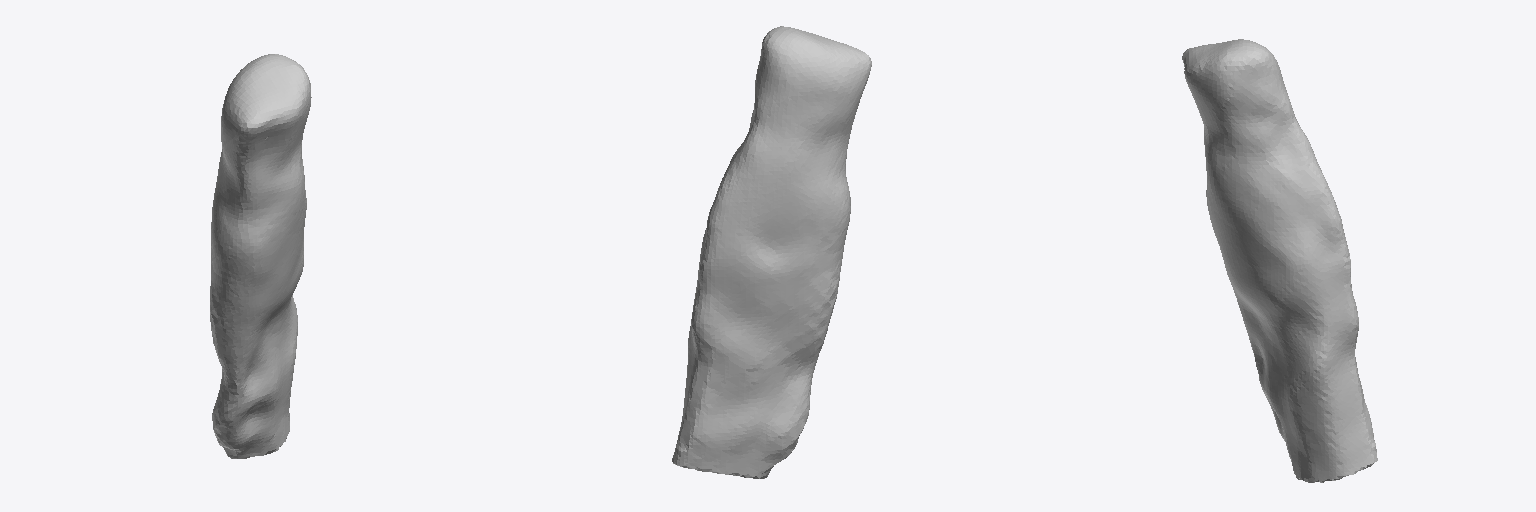
Rendered from shampoo.obj.
3 renders of one model, left to right at view 1: azimuth 30°, elevation 25°; view 2: azimuth 150°, elevation 25°; view 3: azimuth 270°, elevation 25°, orthographic.
Visible parts, largest first — view 1: mmGroup0; view 2: mmGroup0; view 3: mmGroup0.
Boxes of the visible parts, <box> form: mmGroup0: <box>210,54,311,458</box>; mmGroup0: <box>672,26,871,478</box>; mmGroup0: <box>1182,39,1377,482</box>.
Bounding box in the file's own units: 0.8675 × 2.91 × 1.22.